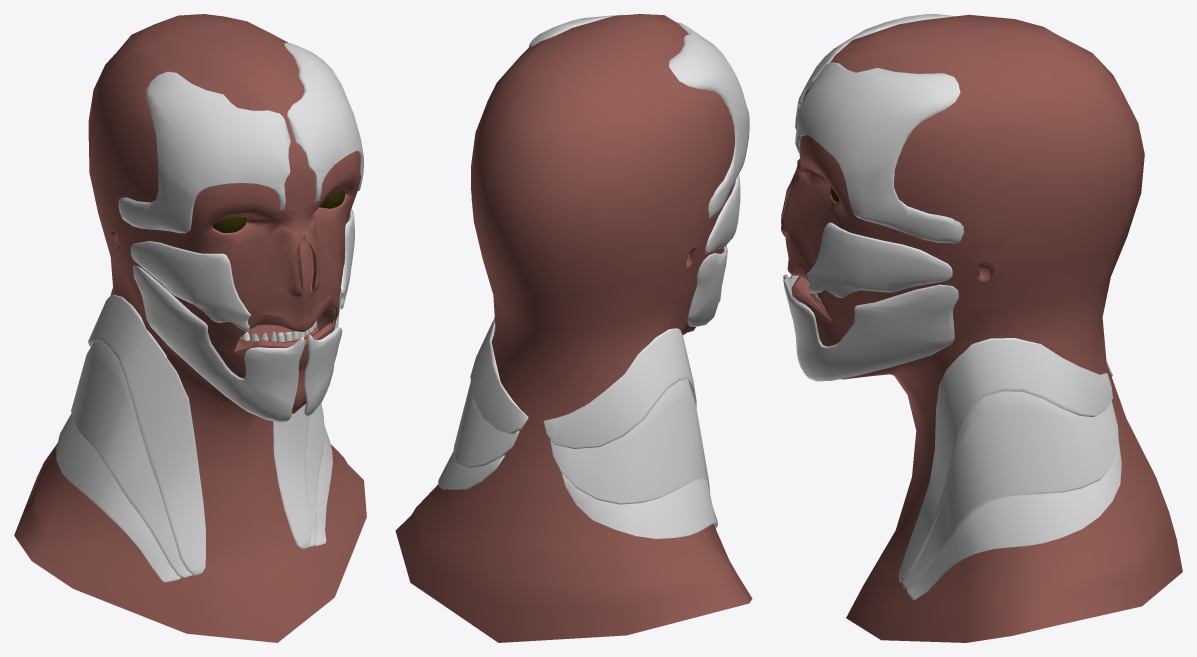
File: MuscleBust_FinEdit.fbx
3 views of the same model, side by side, from view 1: azimuth 30°, elevation 25°; view 2: azimuth 150°, elevation 25°; view 3: azimuth 270°, elevation 25° (orthographic). The views are drawn at different scales.
Visible parts, largest first — view 1: Headface, Forehead_R, TopGil_R, MiddleGil_R, Jaw_R, Forehead_L, Cheek_R, BottomGil_R, TopGil_L, Jaw_L, MiddleGil_L, BottomGil_L1 (+1 smaller); view 2: Headface, MiddleGil_R, TopGil_R, BottomGil_R, Forehead_R, TopGil_L, MiddleGil_L, Jaw_R, Cheek_R, BottomGil_L1, Forehead_L; view 3: Headface, MiddleGil_L, Forehead_L, TopGil_L, Jaw_L, BottomGil_L1, Cheek_L, Forehead_R.
Boxes of the visible parts, x1,y1,x2,y2 form: Headface: (14, 14, 366, 642); Forehead_R: (118, 71, 290, 233); TopGil_R: (88, 294, 205, 575); MiddleGil_R: (71, 341, 193, 577); Jaw_R: (133, 264, 304, 422); Forehead_L: (284, 43, 363, 202); Cheek_R: (130, 241, 250, 331); BottomGil_R: (56, 414, 180, 582); TopGil_L: (273, 404, 311, 548); Jaw_L: (303, 289, 342, 416); MiddleGil_L: (305, 403, 324, 546); BottomGil_L1: (316, 425, 332, 545); Headface: (395, 14, 752, 642); MiddleGil_R: (550, 379, 709, 504); TopGil_R: (543, 328, 696, 448); BottomGil_R: (562, 473, 717, 538); Forehead_R: (669, 22, 749, 218); TopGil_L: (470, 318, 528, 434); MiddleGil_L: (453, 336, 519, 468); Jaw_R: (687, 245, 727, 326); Cheek_R: (705, 174, 740, 253); BottomGil_L1: (438, 451, 504, 489); Forehead_L: (529, 14, 624, 47); Headface: (781, 14, 1182, 642); MiddleGil_L: (902, 391, 1118, 588); Forehead_L: (795, 62, 963, 243); TopGil_L: (898, 338, 1112, 582); Jaw_L: (783, 278, 958, 381); BottomGil_L1: (907, 442, 1121, 599); Cheek_L: (806, 222, 952, 297); Forehead_R: (795, 14, 954, 129).
Bounding box in the file's own units: 8.18 × 13.26 × 8.22.
